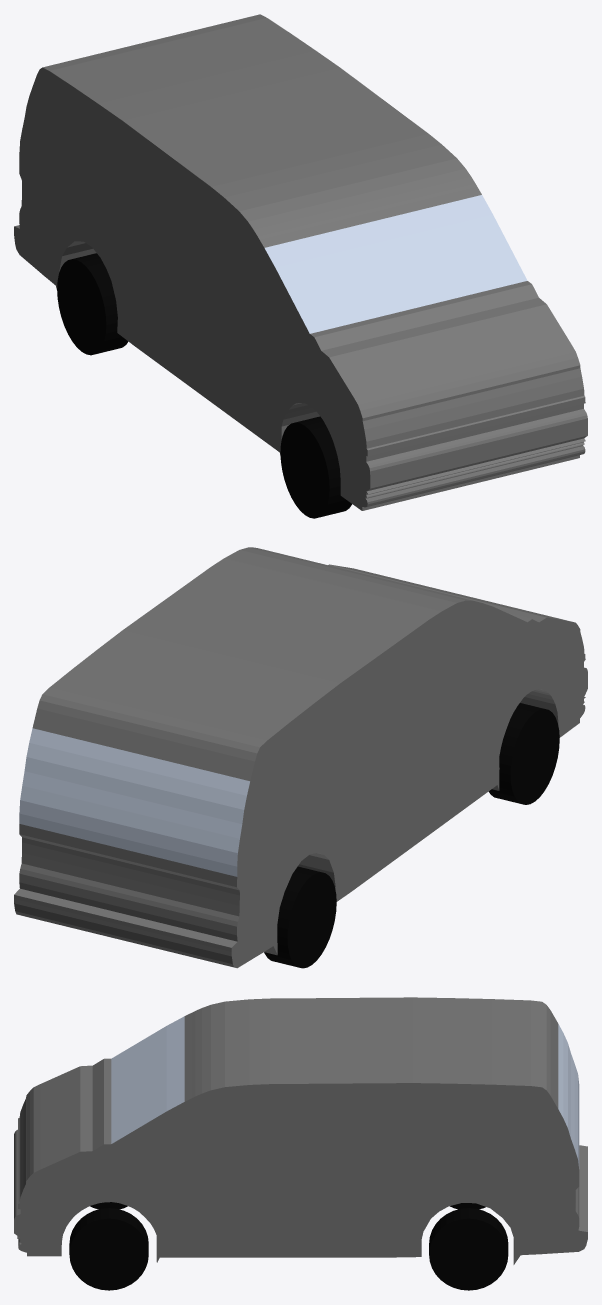
File: Hyundai.glb
The picture shows the model from 3 angles, top to bottom: view 1: azimuth 30°, elevation 25°; view 2: azimuth 150°, elevation 25°; view 3: azimuth 270°, elevation 25°; orthographic projection. The views are drawn at different scales.
Parts seen in each view (by area): view 1: Circle; view 2: Circle; view 3: Circle.
Boxes of the visible parts, x1,y1,x2,y2 form: Circle: [14, 14, 587, 518]; Circle: [14, 547, 587, 968]; Circle: [14, 997, 587, 1290].
Size of the model in its own units: 1.23 by 1.31 by 3.31.
Materials: 3 (1 with a texture image).
